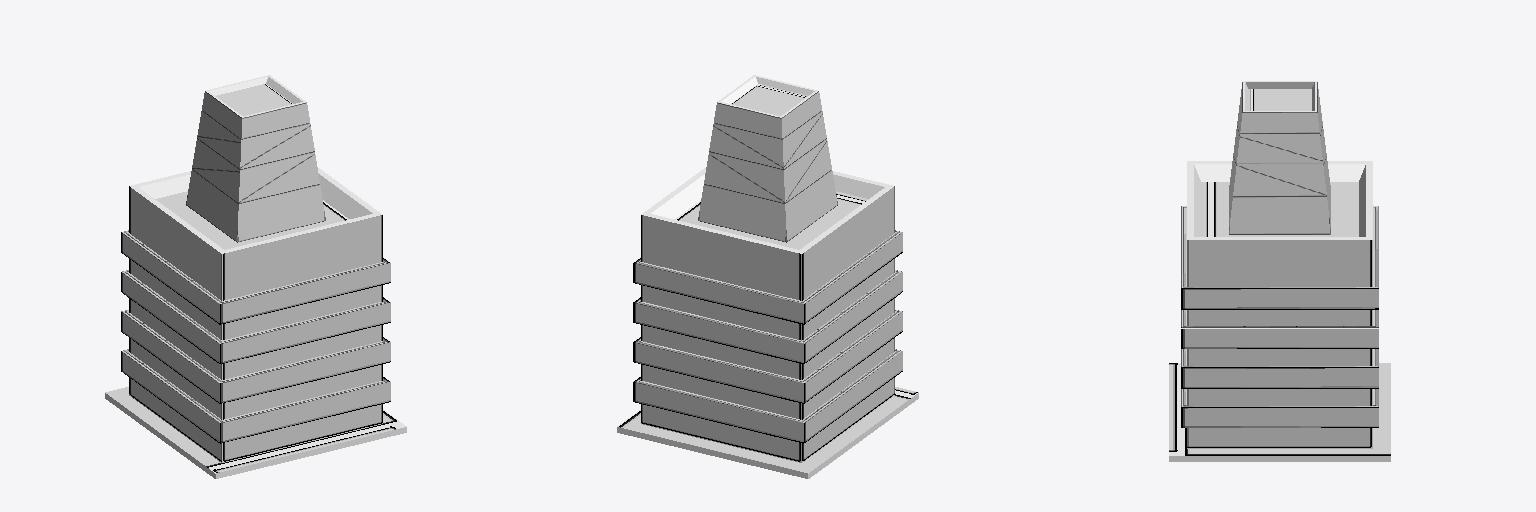
The picture shows the model from 3 angles: view 1: azimuth 30°, elevation 25°; view 2: azimuth 150°, elevation 25°; view 3: azimuth 270°, elevation 25°; orthographic projection.
Parts seen in each view (by area): view 1: Cube, Cube.007; view 2: Cube, Cube.007; view 3: Cube, Cube.007.
Boxes of the visible parts, box(x1,y1,x2,y2) form: Cube: box(129, 75, 382, 462); Cube.007: box(105, 230, 406, 478); Cube: box(641, 75, 894, 462); Cube.007: box(617, 230, 918, 478); Cube: box(1187, 81, 1372, 448); Cube.007: box(1169, 206, 1390, 461).
Bounding box in the file's own units: 3.58 × 5.7 × 3.58.
Materials: 2 (1 with a texture image).